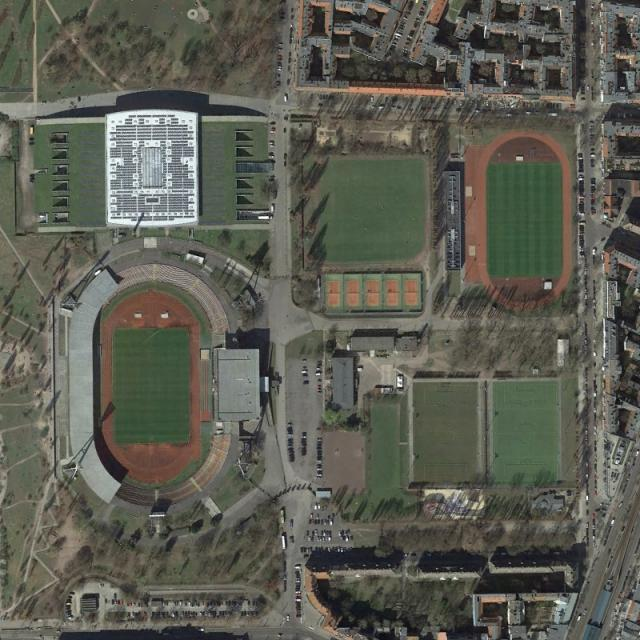vehicle: (280, 533, 287, 550), (279, 506, 286, 522), (283, 93, 288, 102), (576, 615, 581, 622)
